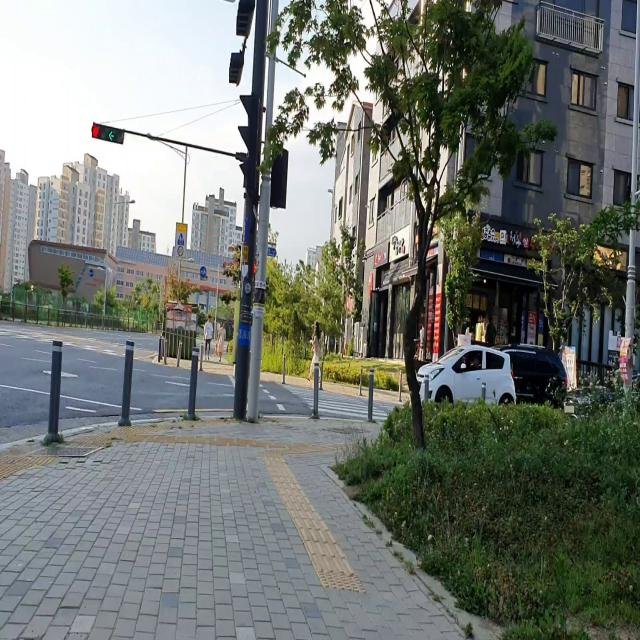횡단보도: (0, 326, 157, 363), (274, 378, 405, 422)
